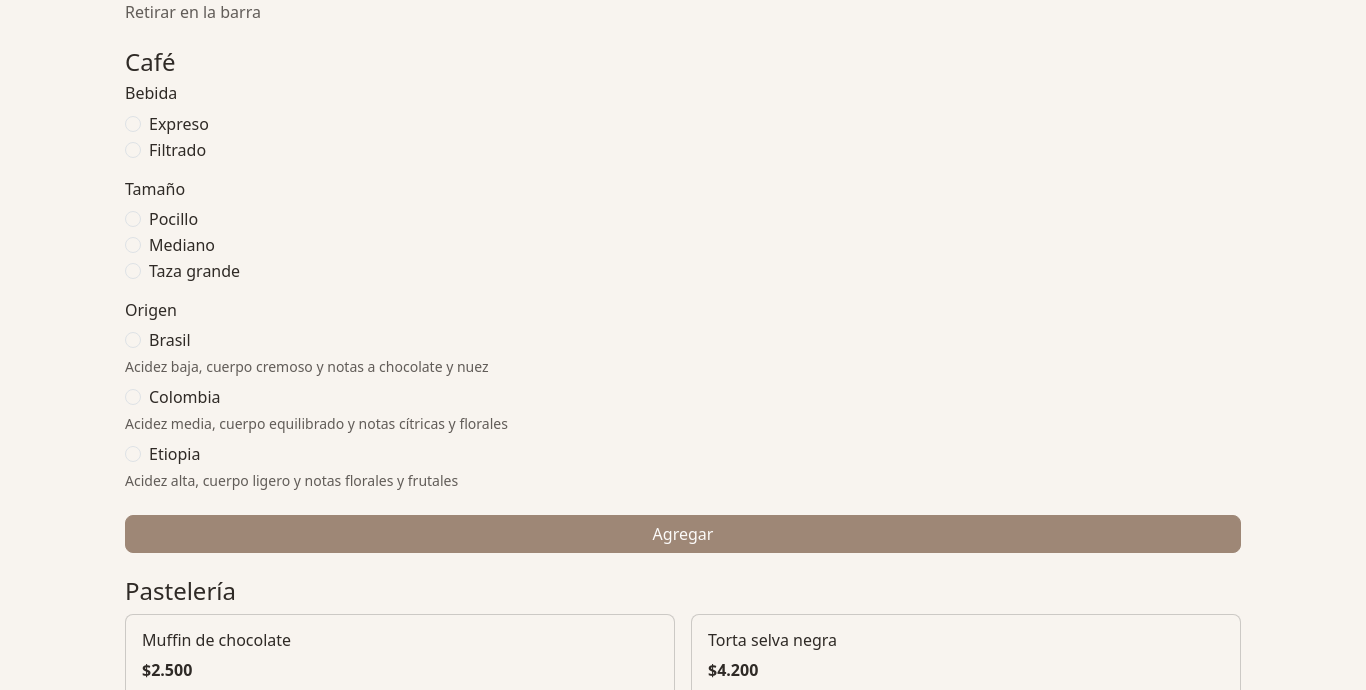
Test: Confirmar pedido › muestra un error si la API está caída y conserva el carrito
Click the radio button labelled "Expreso".
click(133, 124)  # box left=125, top=116, right=141, bottom=132
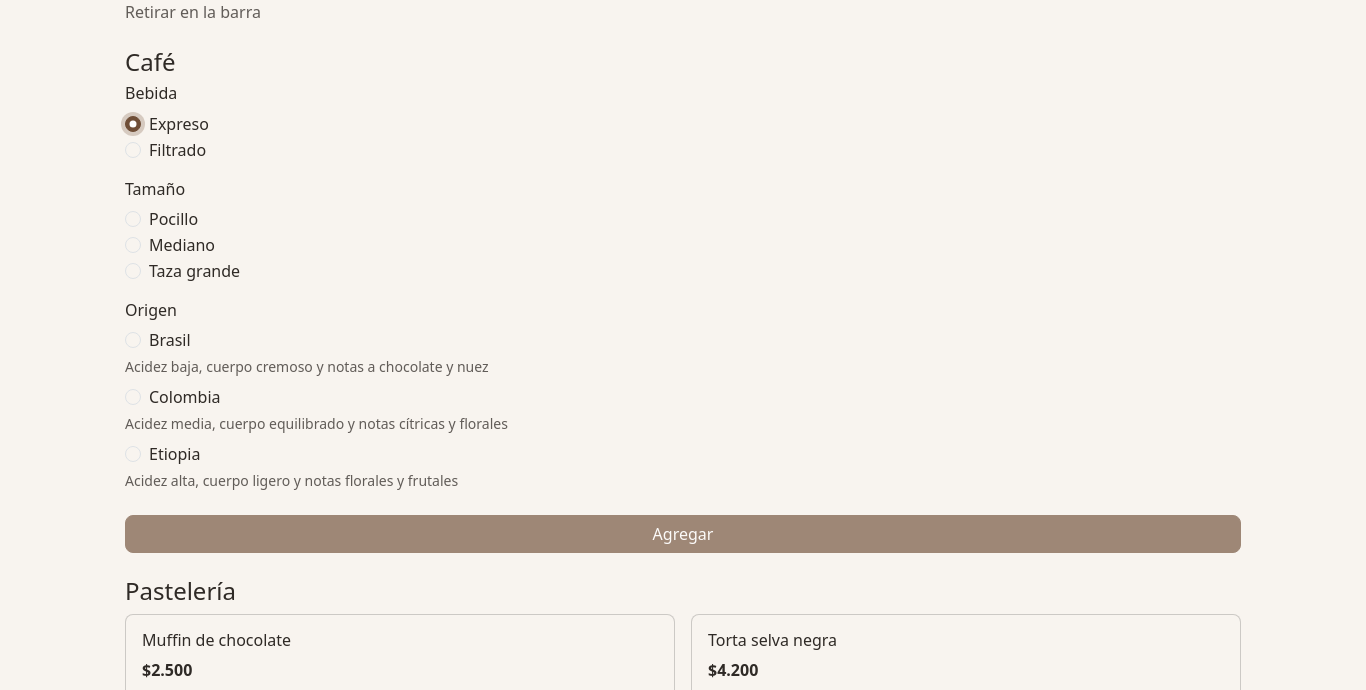
Click the radio button labelled "Mediano".
click(133, 245)  # box left=125, top=237, right=141, bottom=253
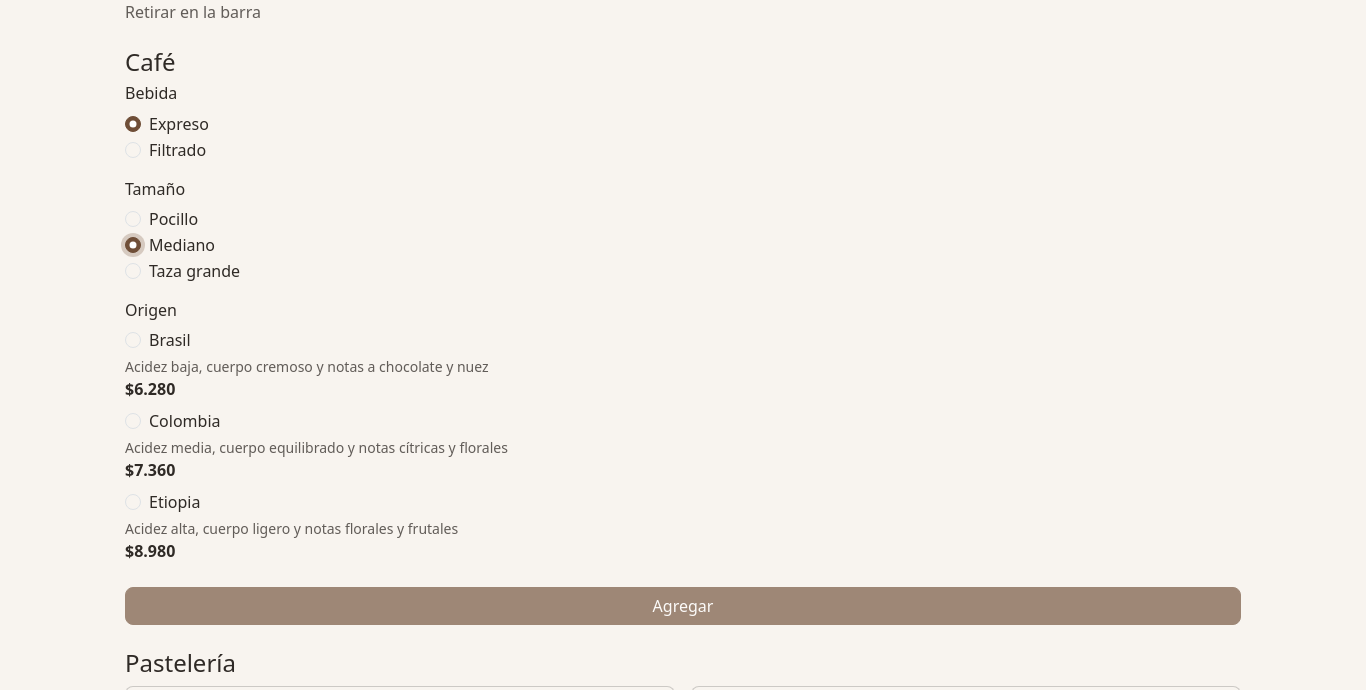
Click the radio button labelled "Colombia".
click(133, 421)  # box left=125, top=413, right=141, bottom=429
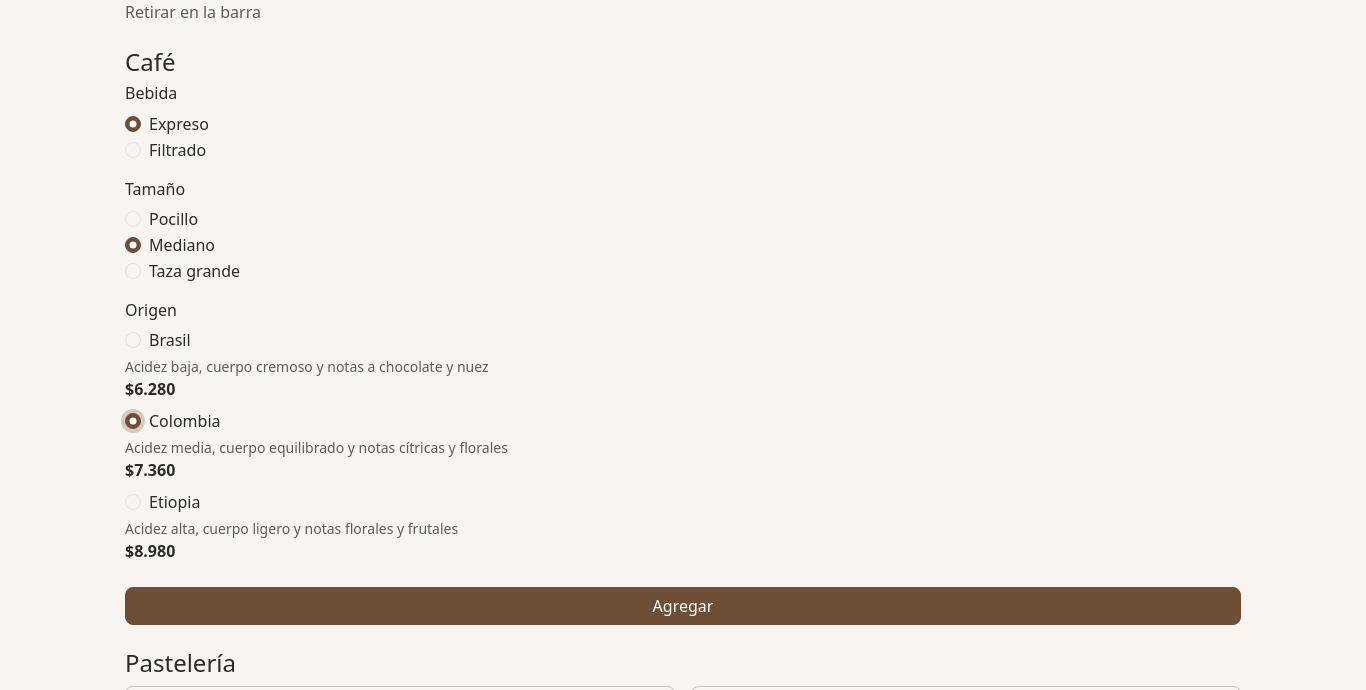
Click the button "Agregar".
click(683, 606)  # box left=125, top=587, right=1241, bottom=625
(page scrolled)
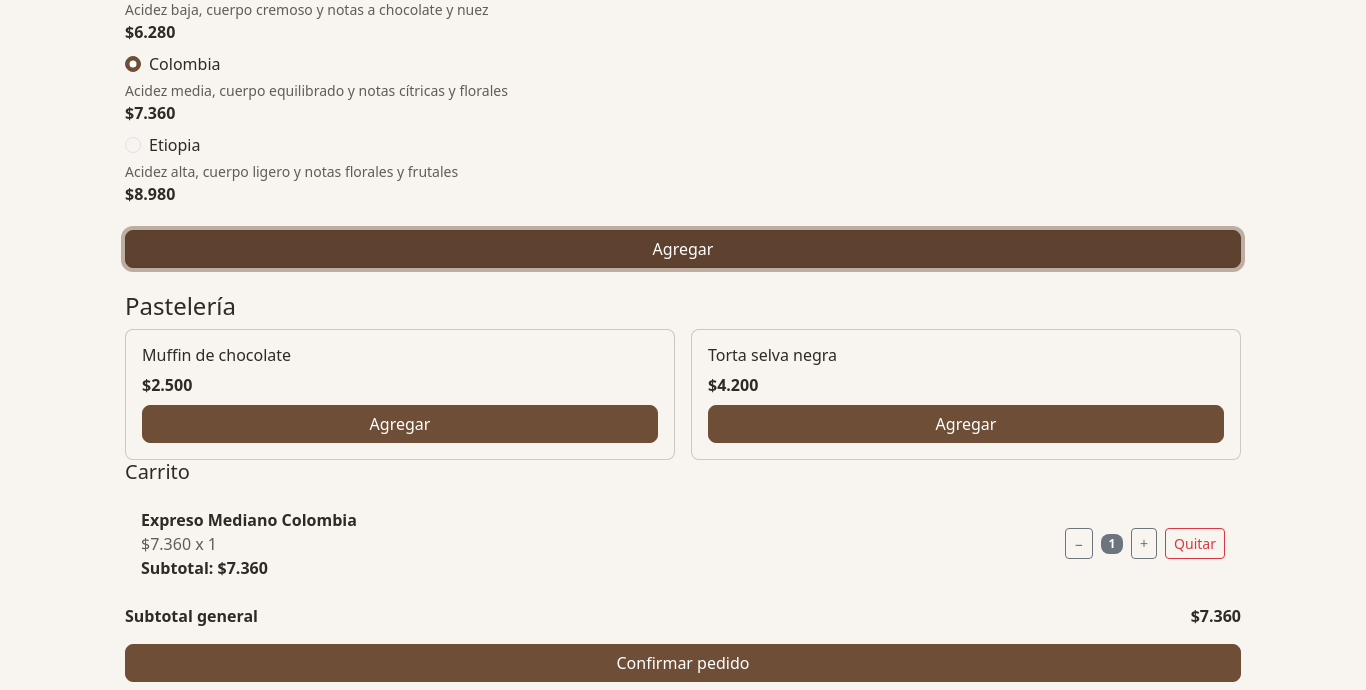
Click the button "Confirmar pedido".
click(683, 663)  # box left=125, top=644, right=1241, bottom=682
(page scrolled)
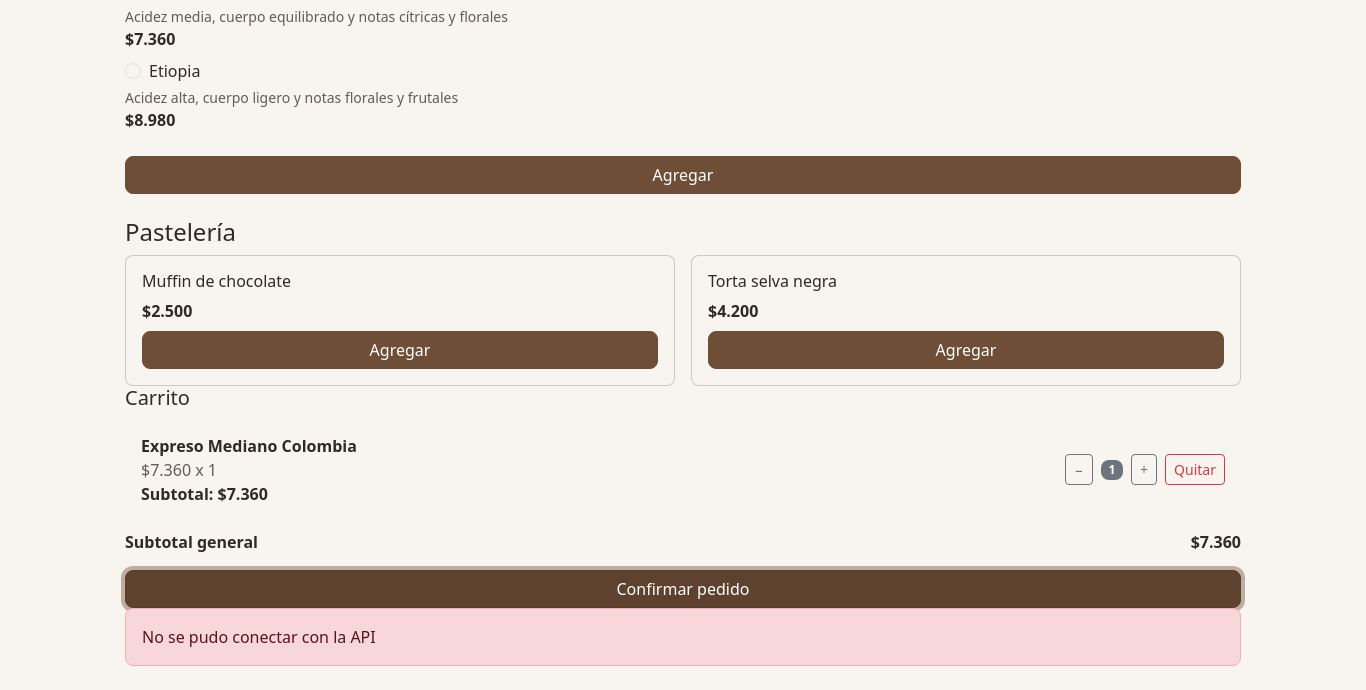
Expected: the text "No se pudo conectar con la API" is shown, left=125, top=608, right=1241, bottom=666
